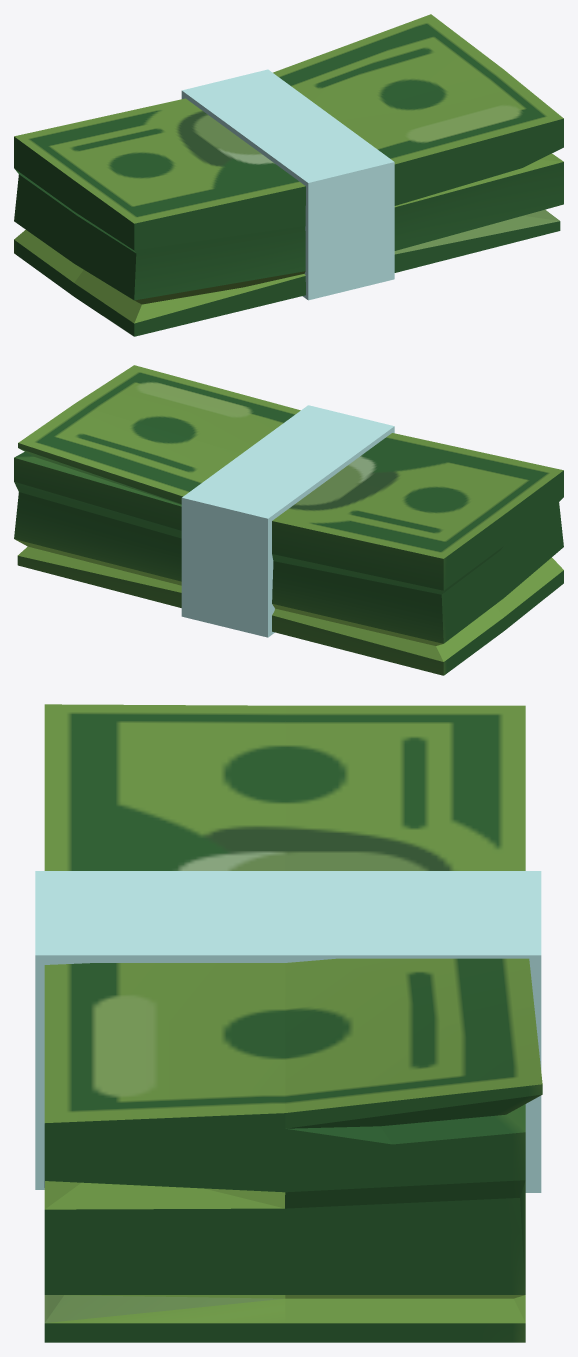
The model's file is Money.fbx.
The picture shows the model from 3 angles, top to bottom: view 1: azimuth 30°, elevation 25°; view 2: azimuth 150°, elevation 25°; view 3: azimuth 270°, elevation 25°; orthographic projection. The views are drawn at different scales.
Parts seen in each view (by area): view 1: Money; view 2: Money; view 3: Money.
Part boxes in pixels (x1,y1,x2,y2): Money: (14,14,563,336); Money: (14,365,563,675); Money: (35,704,542,1342).
Bounding box in the file's own units: 392 × 117 × 201.
Materials: 1 (1 with a texture image).
